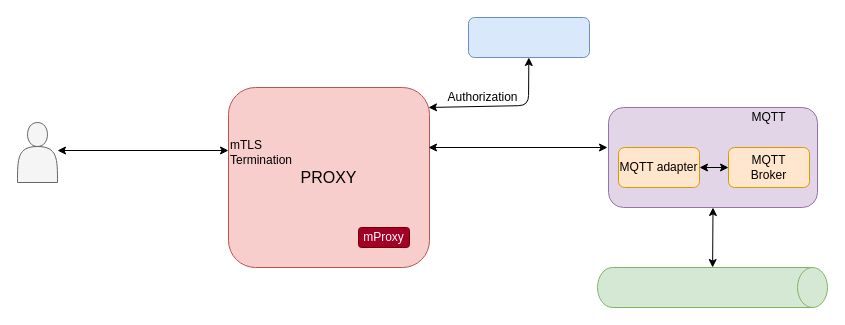
Image size: 845x325. Some labels were removed from this diagram. Here are the shapes that lost their labels. From the top down, the box of each, then its label:
(468, 16, 590, 58): Things
(596, 266, 828, 308): NATS
